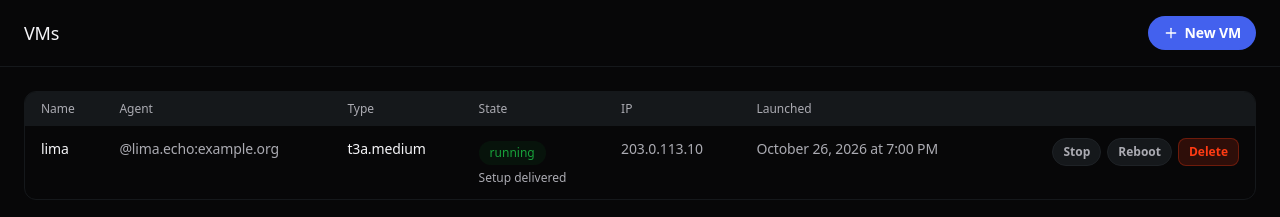
Test case: <VmRoute> › runs an action, then shows the new state
Click the button with aria-label "Stop lima" at (1077, 152), box [1052,138,1101,166]
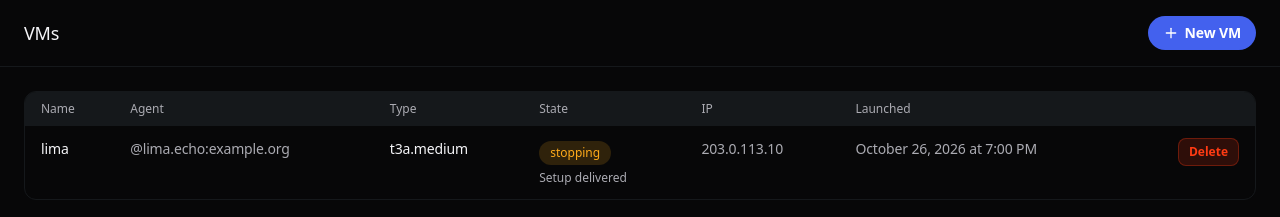
Result: the text "stopping" is shown at [539,141,611,165]
